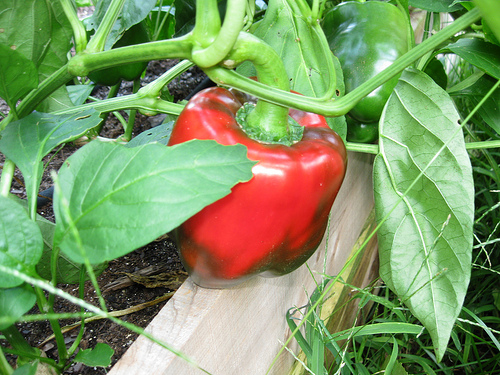capsicum: (167, 84, 350, 291), (319, 0, 410, 145)
